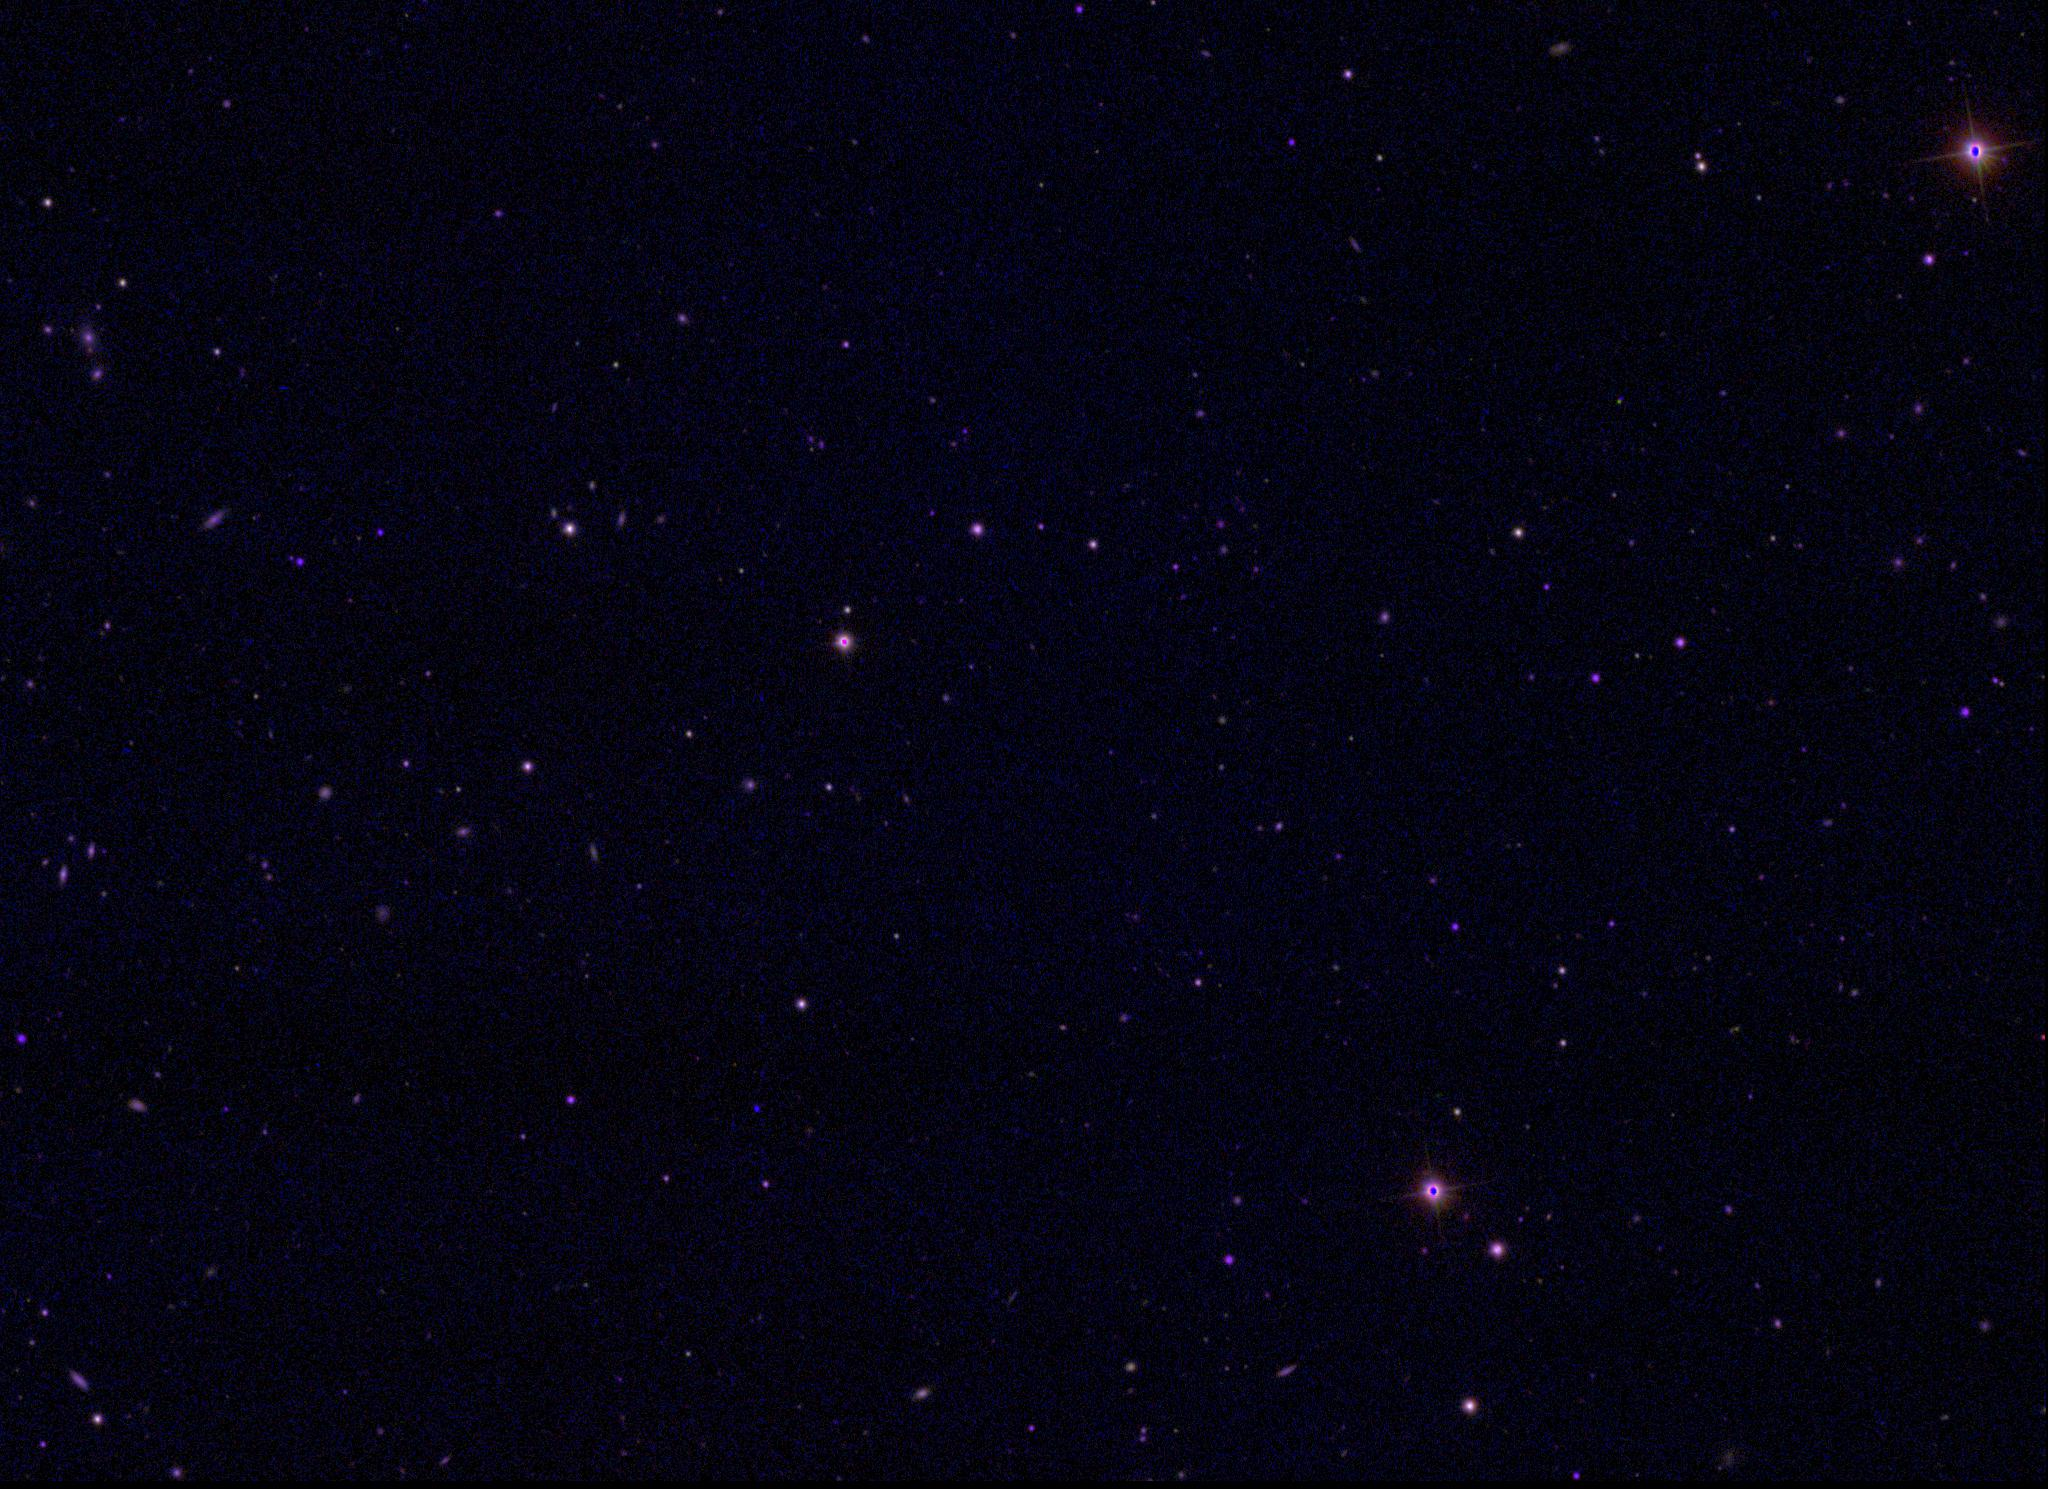L: (749, 1099, 763, 1114)
